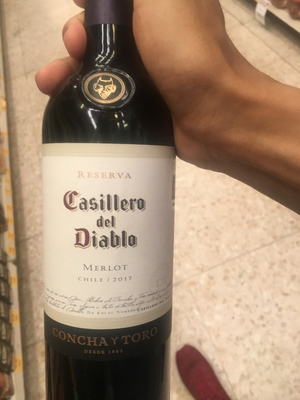casillero del diablo merlot: (44, 22, 177, 400)
